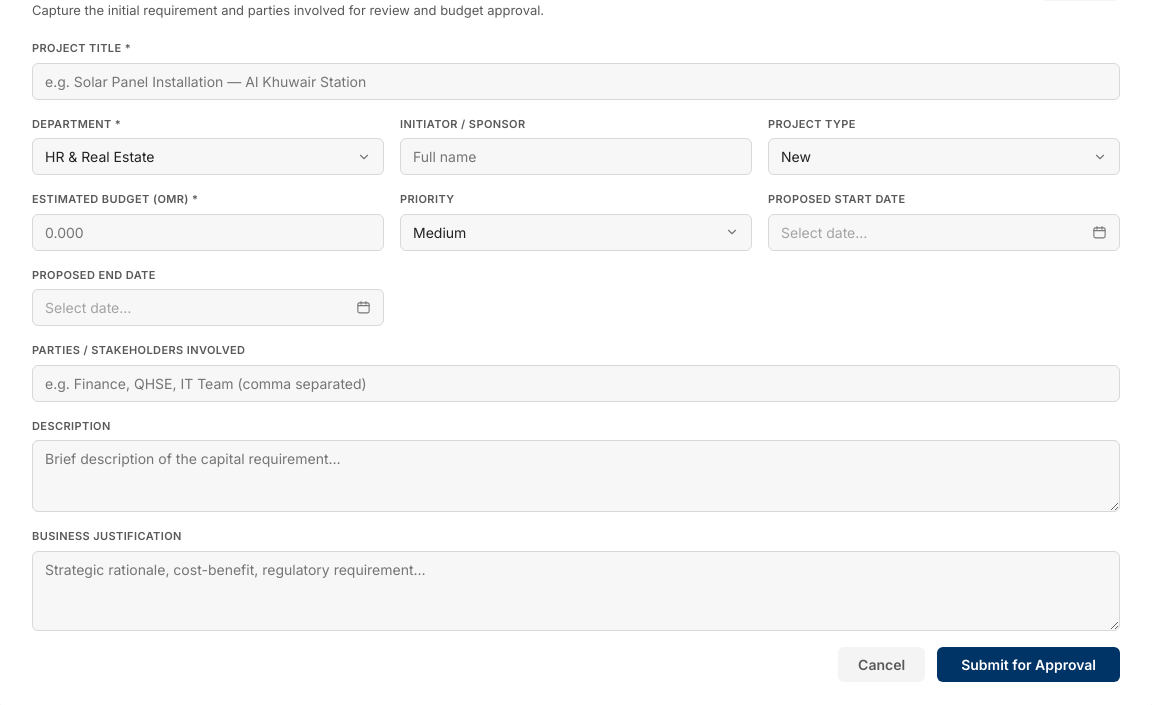
Test: CapexInitiationForm — validation › shows error when title is empty on submit
(page scrolled)
Click the button "Submit for Approval" at (1029, 664), box left=937, top=646, right=1120, bottom=682
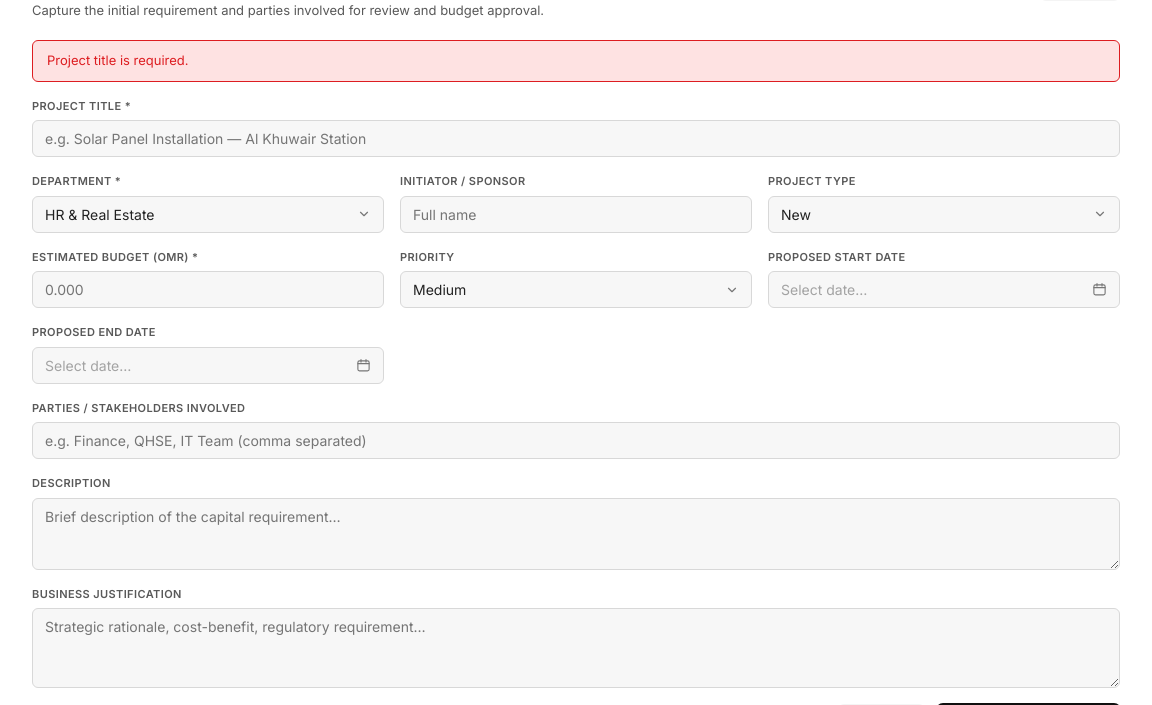
Expected: the text "Project title is required." is shown, left=32, top=40, right=1120, bottom=82
